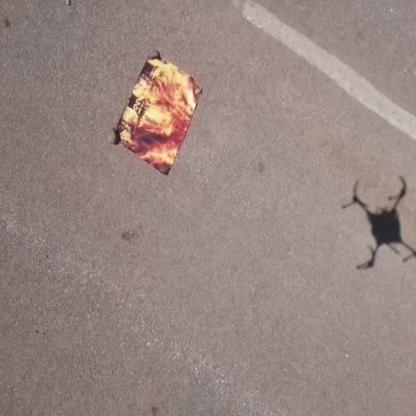fire-poster: (114, 50, 203, 177)
